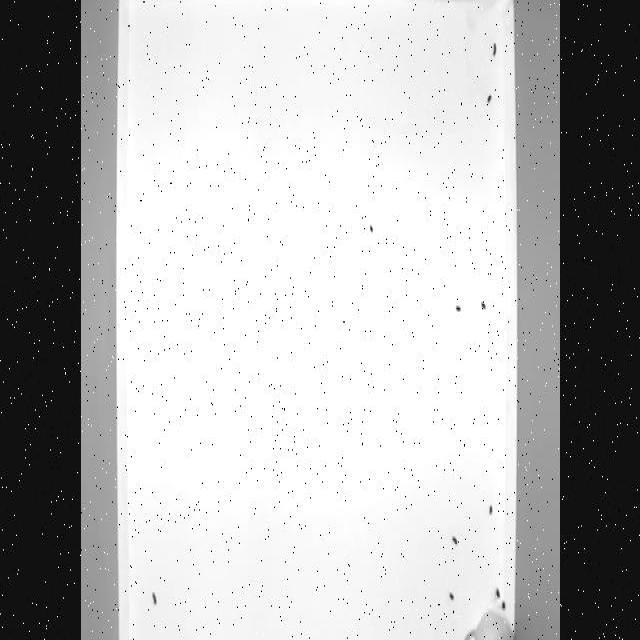rat: (460, 608, 516, 640)
